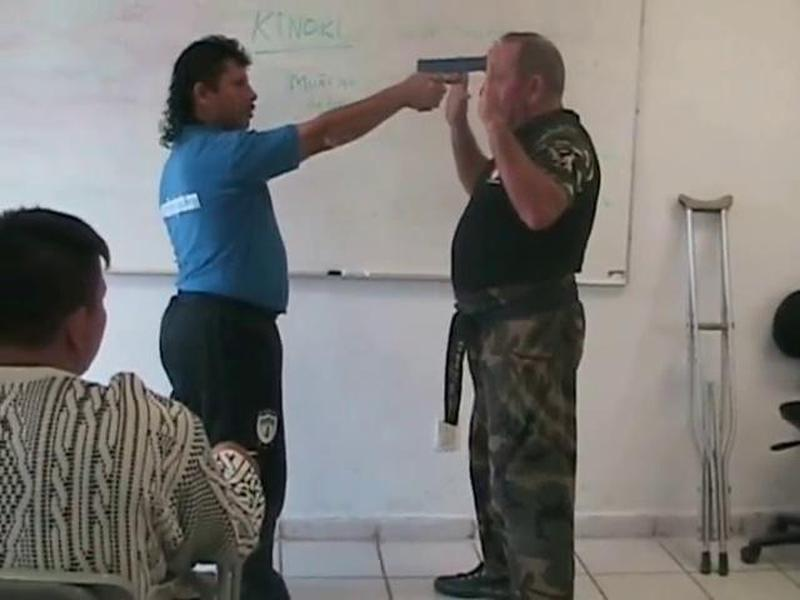Pistola: (412, 48, 491, 86)
